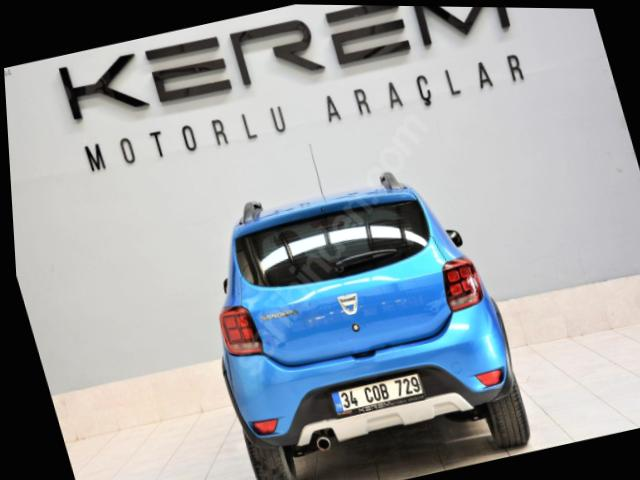plaka: (331, 373, 424, 415)
